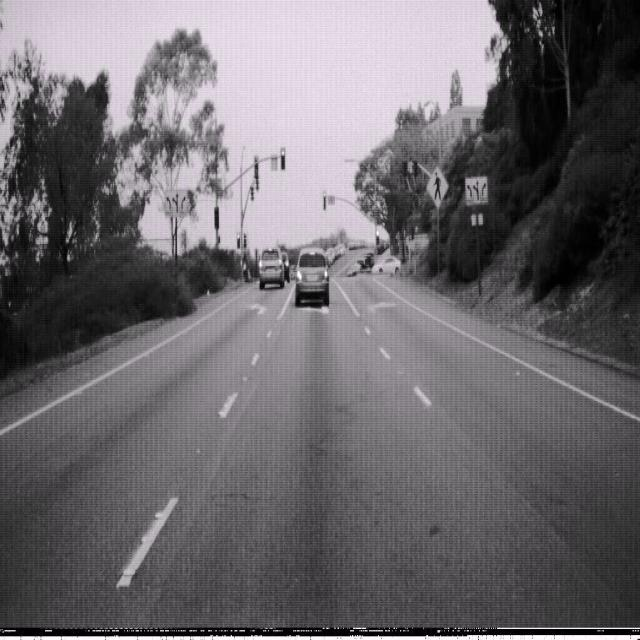pedestrianCrossing: (426, 163, 448, 210)
